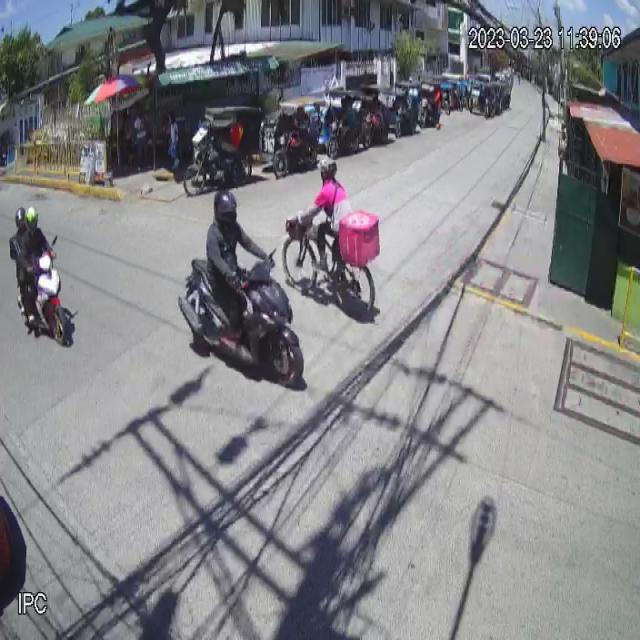Motorcycle: (178, 245, 305, 385), (16, 233, 72, 350)
